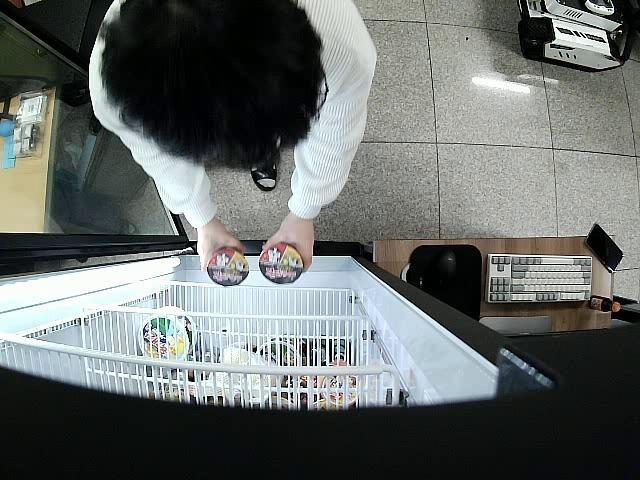08_buldak_S: (258, 243, 306, 285), (205, 246, 249, 290)
